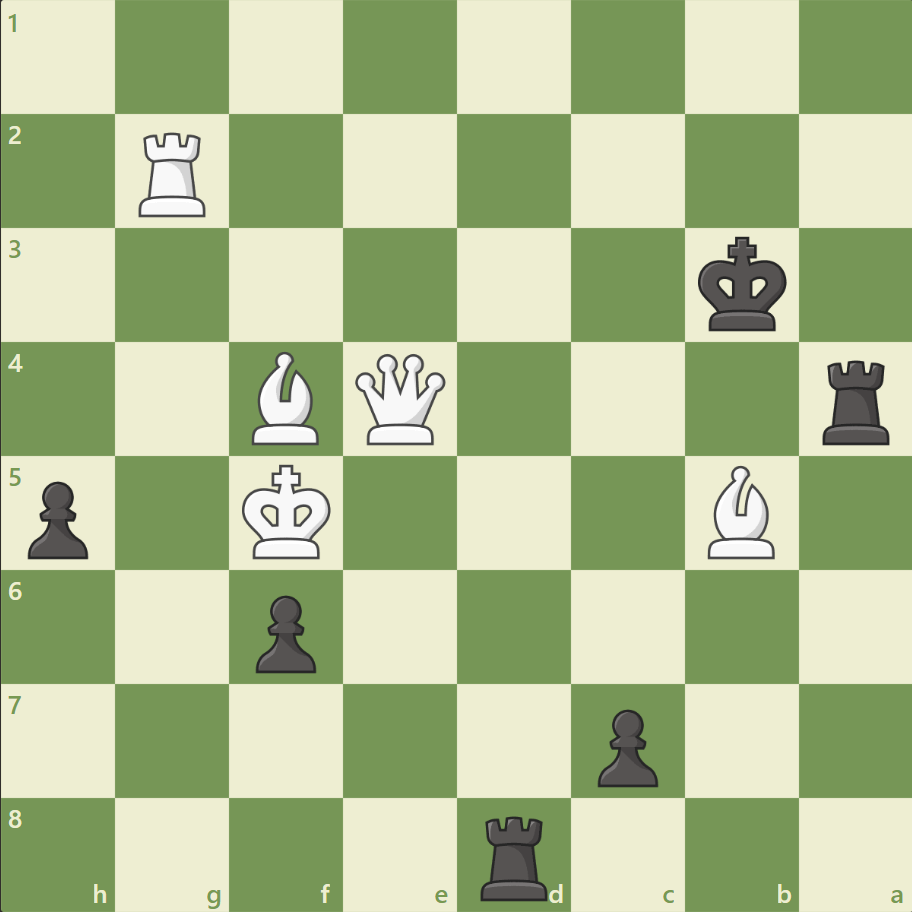B: (698, 460, 782, 563), (244, 347, 328, 449)
K: (238, 458, 338, 566)
Q: (351, 349, 450, 449)
R: (133, 125, 215, 222)
k: (692, 231, 792, 339)
p: (247, 586, 322, 677), (20, 473, 95, 564), (588, 700, 662, 791)
r: (473, 806, 556, 904), (814, 352, 897, 449)
